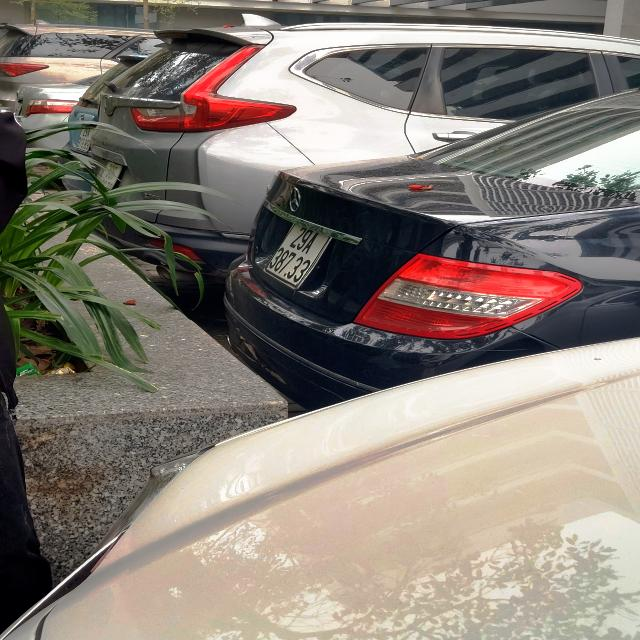license_plate: (264, 222, 336, 288)
